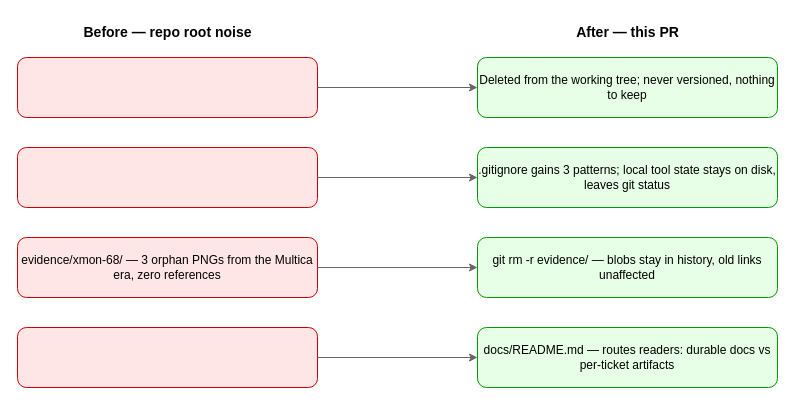
This 795x405 diagram has some shape labels left out. The shapes that lost their labels are listed below. From the top down, each one's box as (x1, y1, x2, y2) in pixels, then its label:
(16, 56, 318, 118): bridge-app.png — stray app screenshot at repo root (untracked)
(16, 146, 318, 208): .agent-native/ .archify/ .commandcode/ — tool-local state in every git status
(16, 326, 318, 388): docs/ — durable docs mixed with per-ticket artifacts, no index
